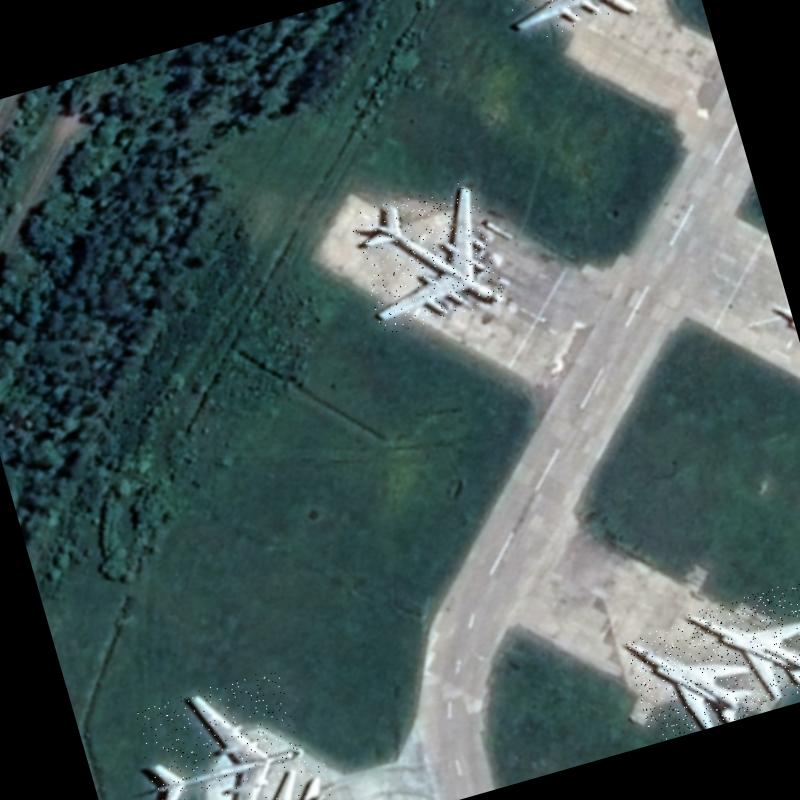A12: (623, 608, 764, 743), (684, 578, 800, 717), (198, 756, 348, 800)
A17: (130, 667, 324, 800), (347, 178, 506, 335), (495, 0, 641, 45)
